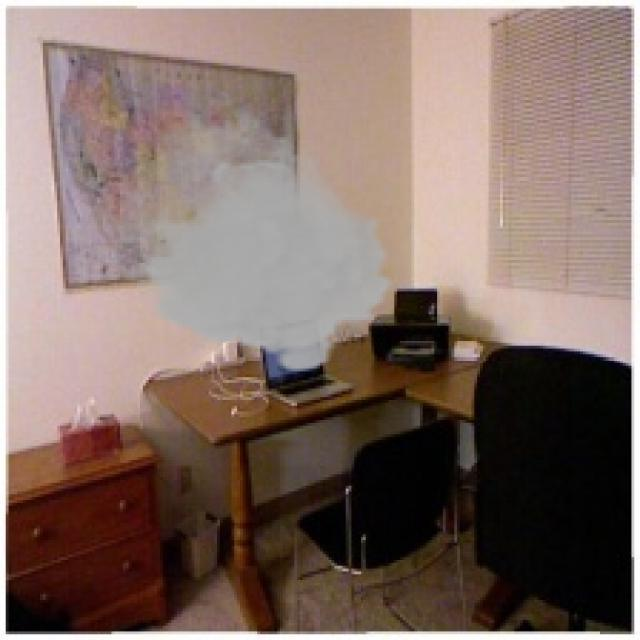Smoke: (120, 103, 397, 374)
